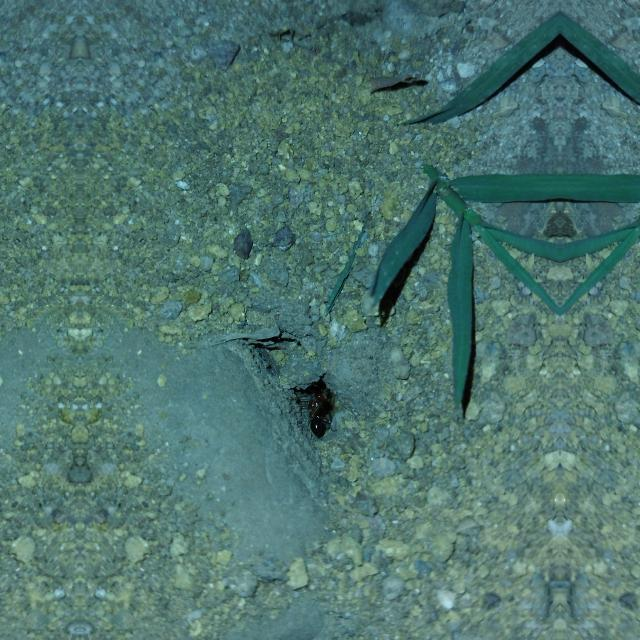Cataglyphis: (304, 376, 341, 446)
